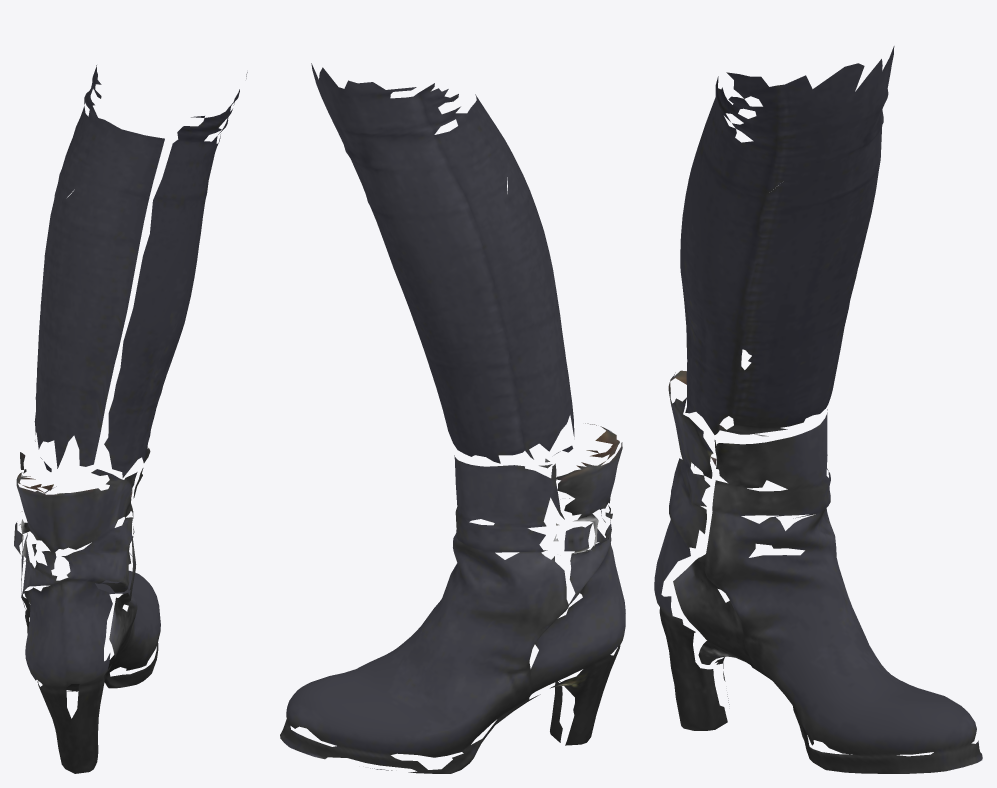
Rendered from chicaunam_piernaizq.glb.
The picture shows the model from 3 angles, left to right: view 1: azimuth 30°, elevation 25°; view 2: azimuth 150°, elevation 25°; view 3: azimuth 270°, elevation 25°; orthographic projection. The views are drawn at different scales.
Parts seen in each view (by area): view 1: Object_5.003; view 2: Object_5.003; view 3: Object_5.003.
Part boxes in pixels (box(x1,y1,x2,y2)): Object_5.003: box(14, 65, 247, 773); Object_5.003: box(280, 63, 625, 773); Object_5.003: box(654, 46, 982, 773).
Size of the model in its own units: 0.9081 by 2.36 by 0.9118.
Materials: 1 (1 with a texture image).
